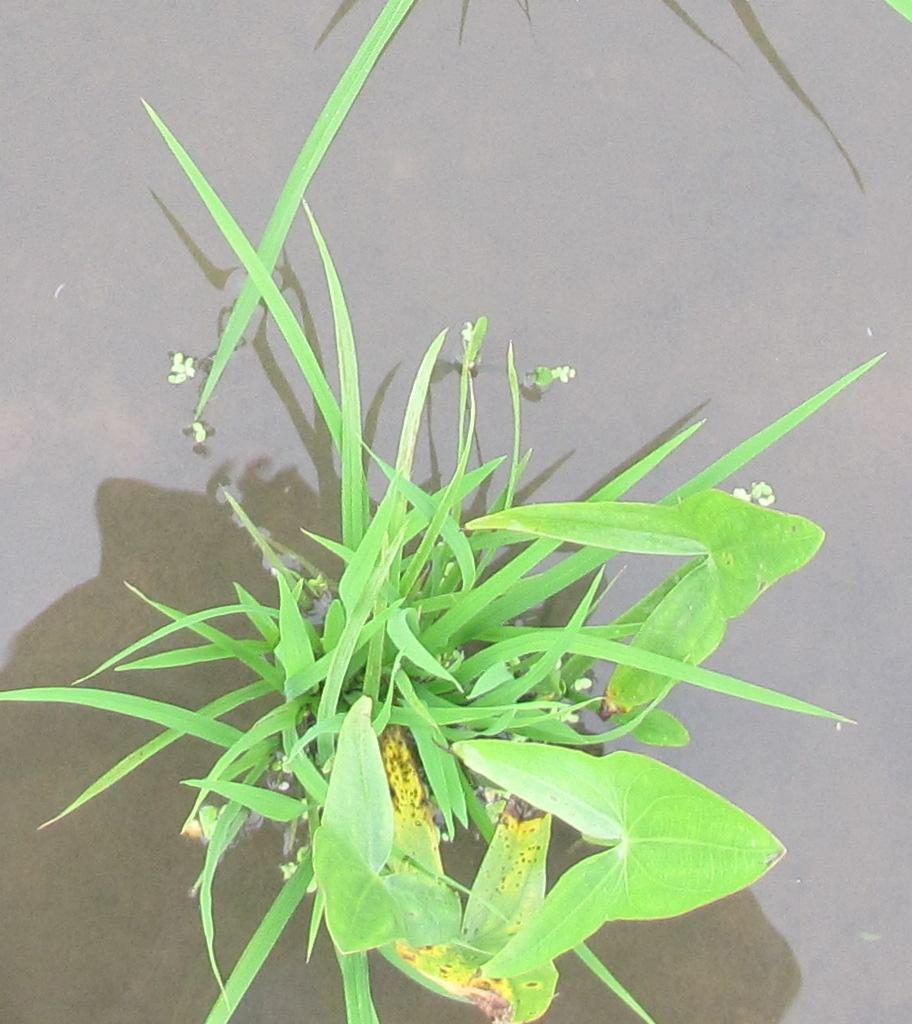Weed: (457, 739, 796, 967), (478, 489, 827, 689), (316, 697, 480, 974)
